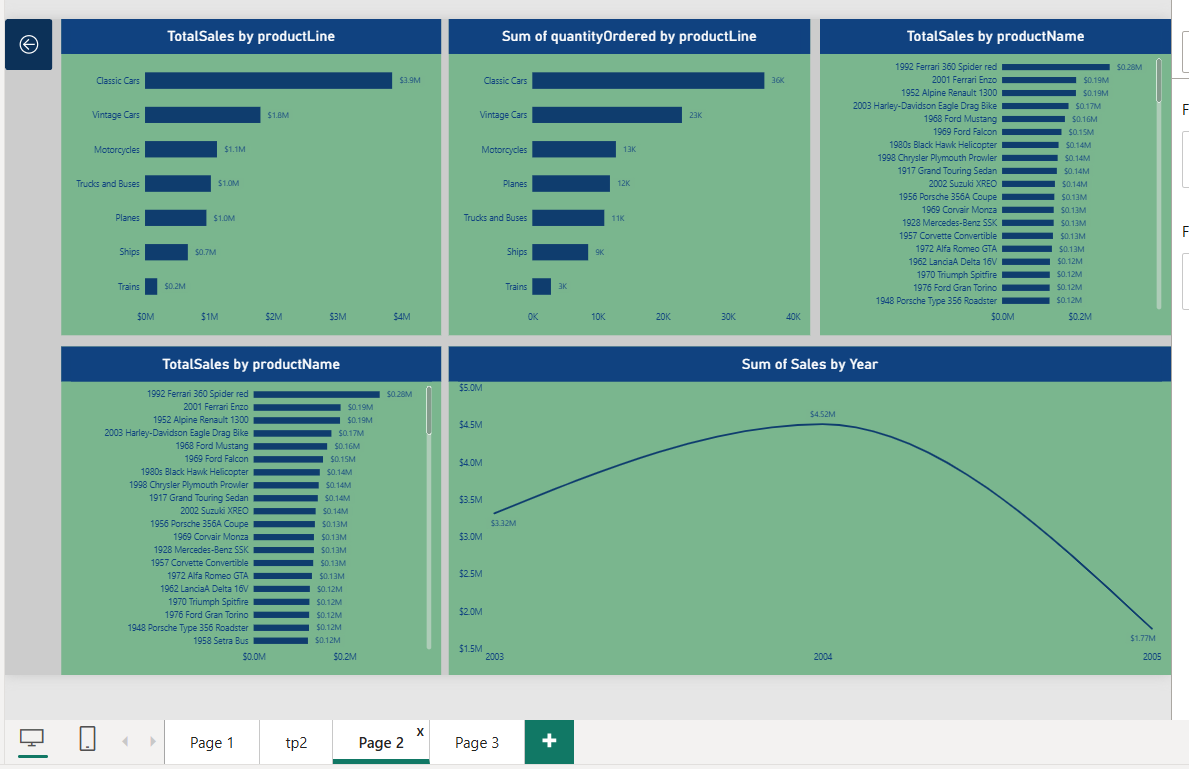

The page's visual inventory and layout, read from the dashboard file:
{"tool":"powerbi","page":{"name":"Page 2","canvas":[1920,1080],"ordinal":2},"visuals":[{"type":"barChart","fields":{"Category":["productlines.productLine"],"Y":["order_details.TotalSales"]},"box":[92.6,0,625.7,520.8],"z":0},{"type":"barChart","fields":{"Category":["products.productName"],"Y":["order_details.TotalSales"]},"box":[1342,0,578.4,520.8],"z":1000},{"type":"barChart","fields":{"Category":["productlines.productLine"],"Y":["Sum(order_details.quantityOrdered)"]},"box":[730.7,0,594.9,520.8],"z":2000},{"type":"barChart","fields":{"Category":["products.productName"],"Y":["order_details.TotalSales"]},"box":[92.6,539.3,625.7,541.3],"z":3000},{"type":"actionButton","box":[0,0,78.2,84.4],"z":4000},{"type":"lineChart","fields":{"Category":["orders.orderDate.Variation.Date Hierarchy.Year","orders.orderDate.Variation.Date Hierarchy.Quarter","orders.orderDate.Variation.Date Hierarchy.Month","orders.orderDate.Variation.Date Hierarchy.Day"],"Y":["Sum(order_details.Sales)"]},"box":[730.7,539.3,1189.7,541.3],"z":5000}]}

Visuals, with their boxes on the page's 1920x1080 design canvas (x1, y1, x2, y2). These are canvas units, not pixel positions in the 1189x769 screenshot, which may show the page scaled, cropped or inside an application window:
barChart - productlines.productLine x order_details.TotalSales: detection(93, 0, 718, 521)
barChart - products.productName x order_details.TotalSales: detection(1342, 0, 1920, 521)
barChart - productlines.productLine x Sum(order_details.quantityOrdered): detection(731, 0, 1326, 521)
barChart - products.productName x order_details.TotalSales: detection(93, 539, 718, 1081)
actionButton: detection(0, 0, 78, 84)
lineChart - orders.orderDate.Variation.Date Hierarchy.Year x orders.orderDate.Variation.Date Hierarchy.Quarter: detection(731, 539, 1920, 1081)
